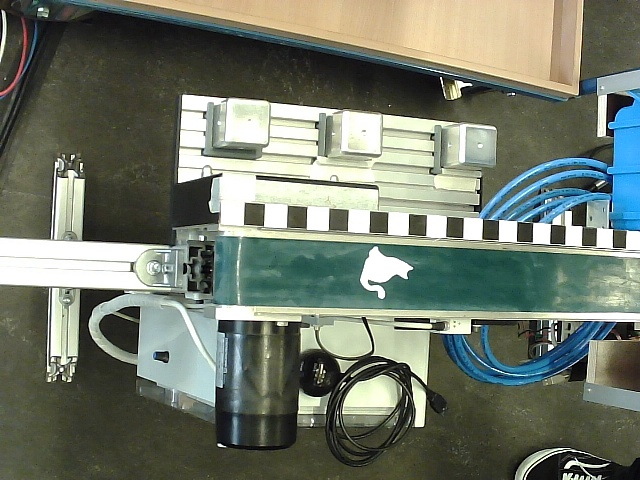cat: (360, 246, 414, 300)
